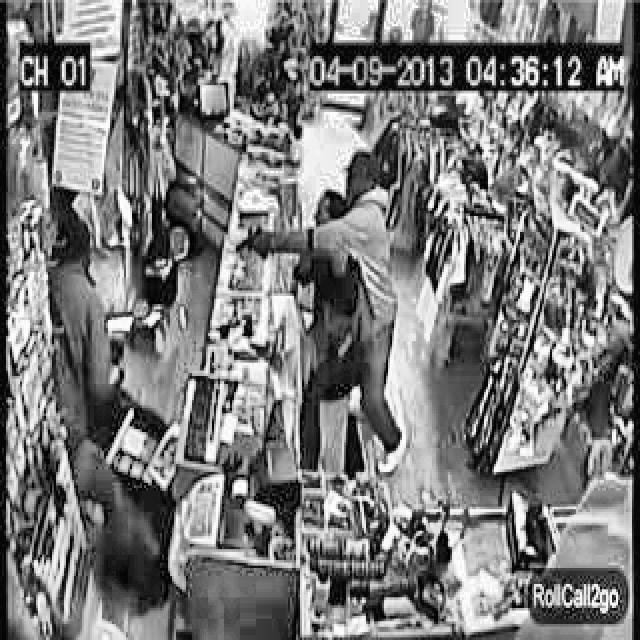robbery: (233, 147, 413, 478)
